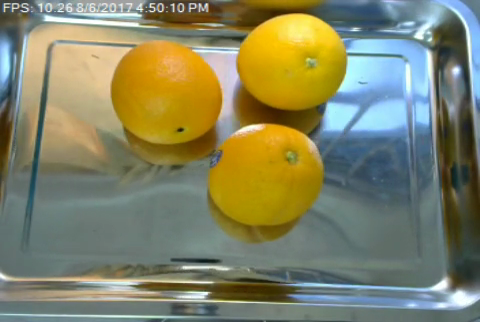Orange: (109, 39, 223, 144), (208, 123, 324, 225), (237, 13, 349, 110)
